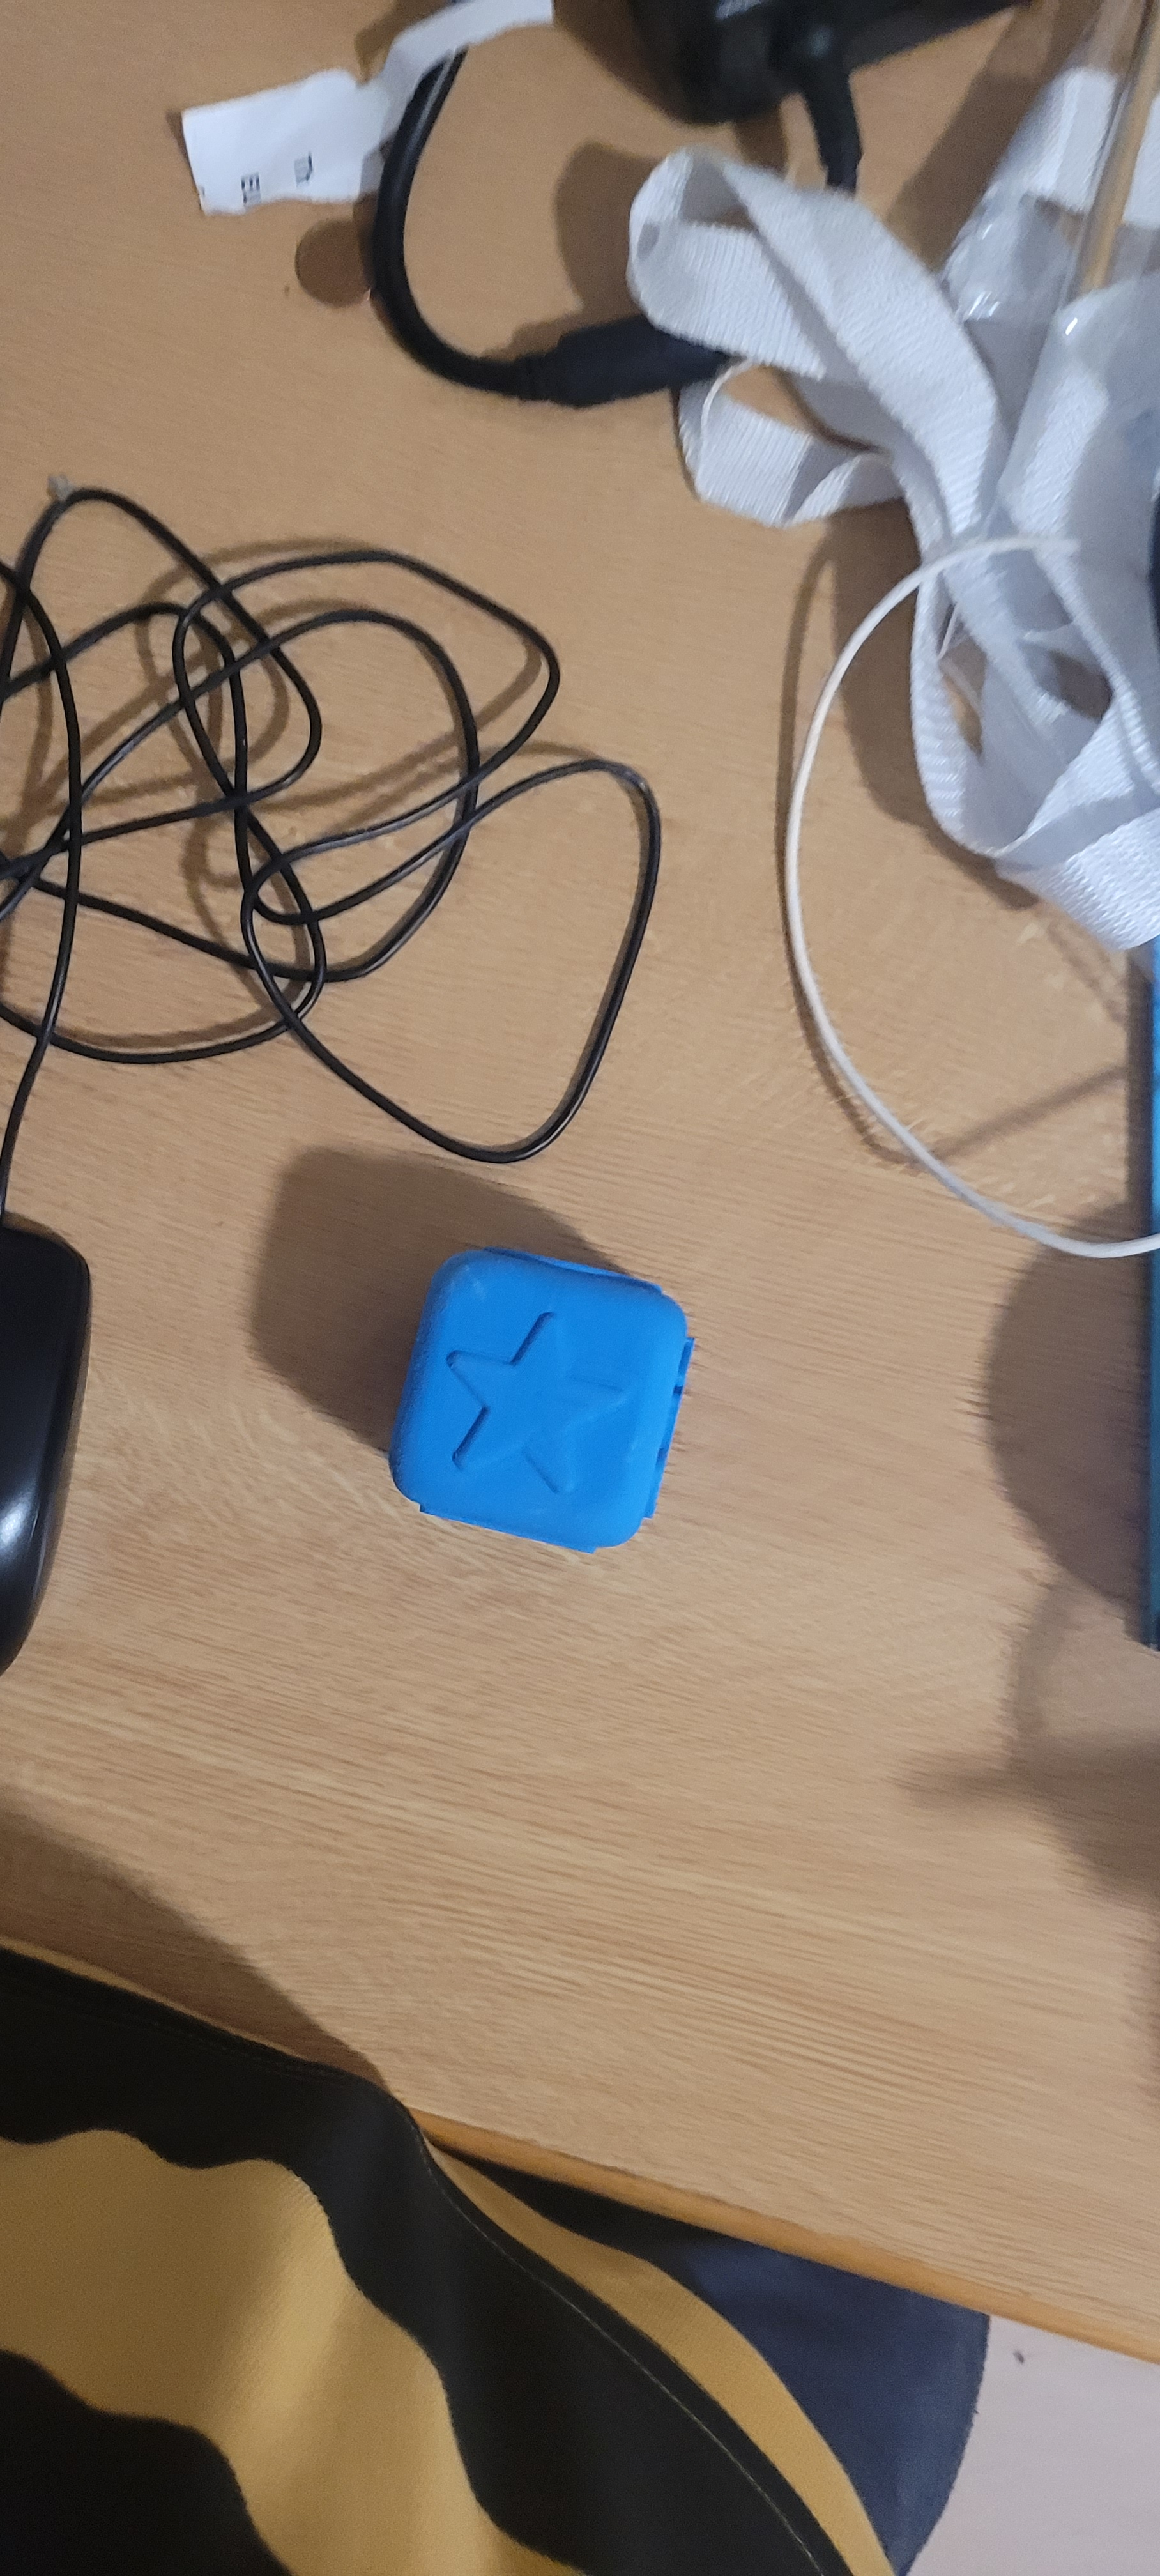Star: (444, 1258, 656, 1516)
